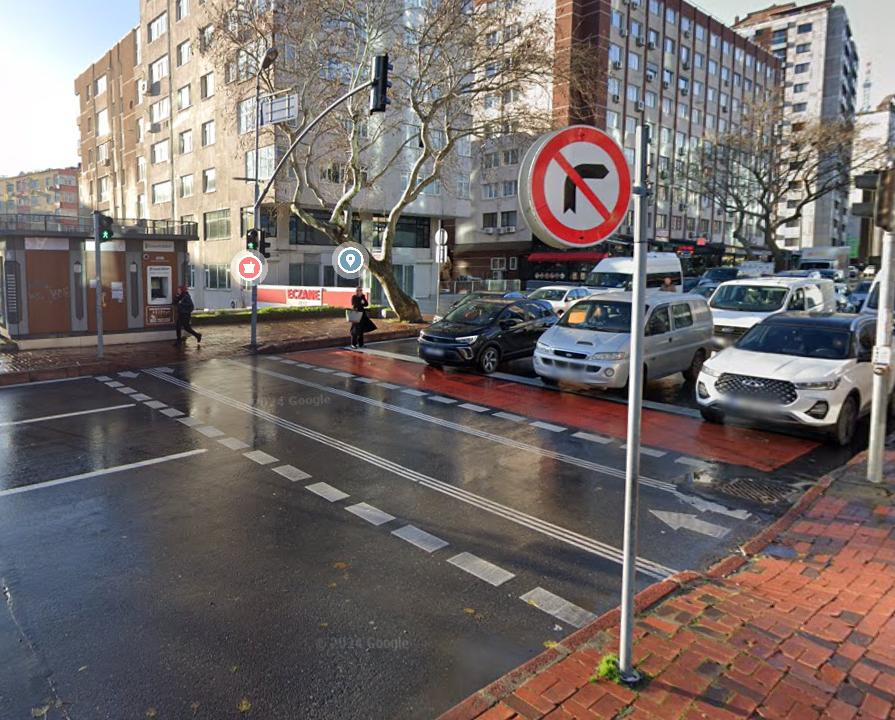rightturnsareforbidden: (518, 122, 638, 252)
